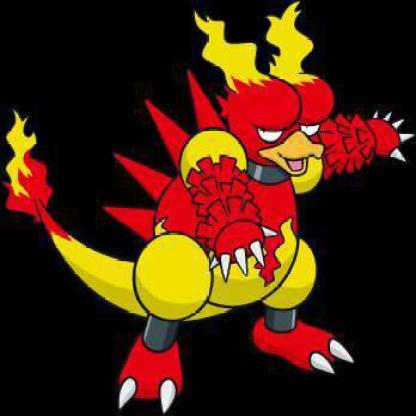Magmar: (19, 73, 406, 416)
